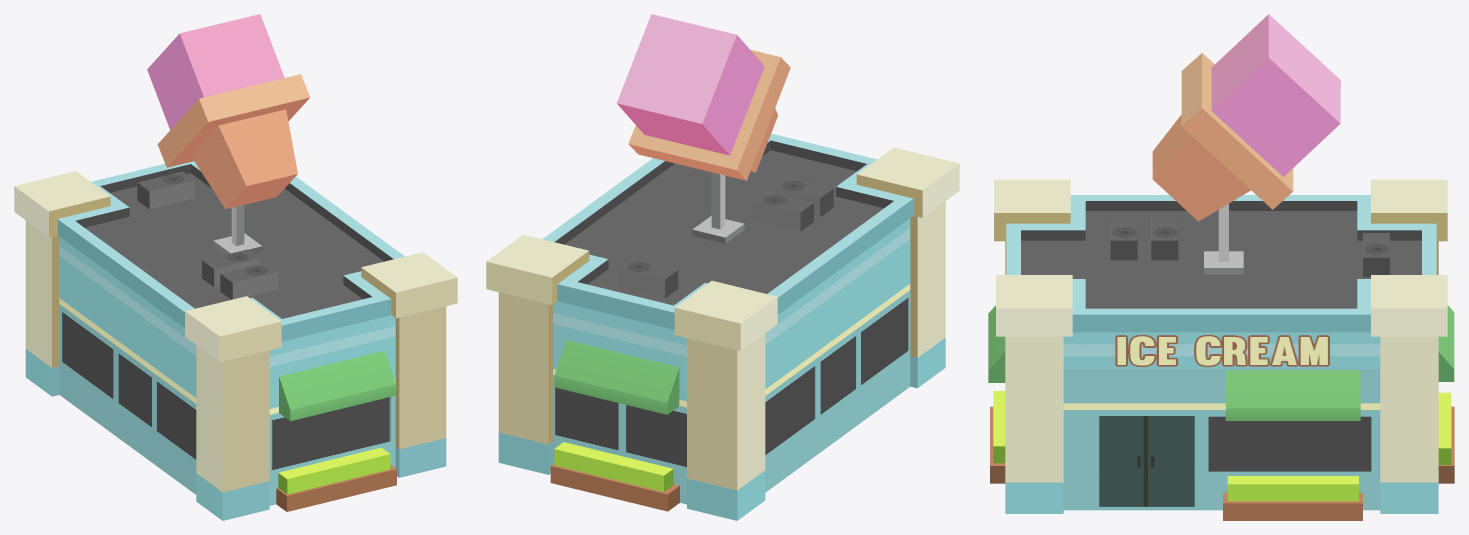
Rendered from ice_cream_shop.glb.
3 views of the same model, side by side, from view 1: azimuth 30°, elevation 25°; view 2: azimuth 150°, elevation 25°; view 3: azimuth 270°, elevation 25° (orthographic). The views are drawn at different scales.
Visible parts, largest first — view 1: icecream_shop_mesh; view 2: icecream_shop_mesh; view 3: icecream_shop_mesh.
Part boxes in pixels (x1,y1,x2,y2): icecream_shop_mesh: (14, 14, 457, 520); icecream_shop_mesh: (486, 14, 959, 520); icecream_shop_mesh: (988, 14, 1454, 520).
Bounding box in the file's own units: 0.1222 × 0.1822 × 0.1829.
Materials: 1 (1 with a texture image).
